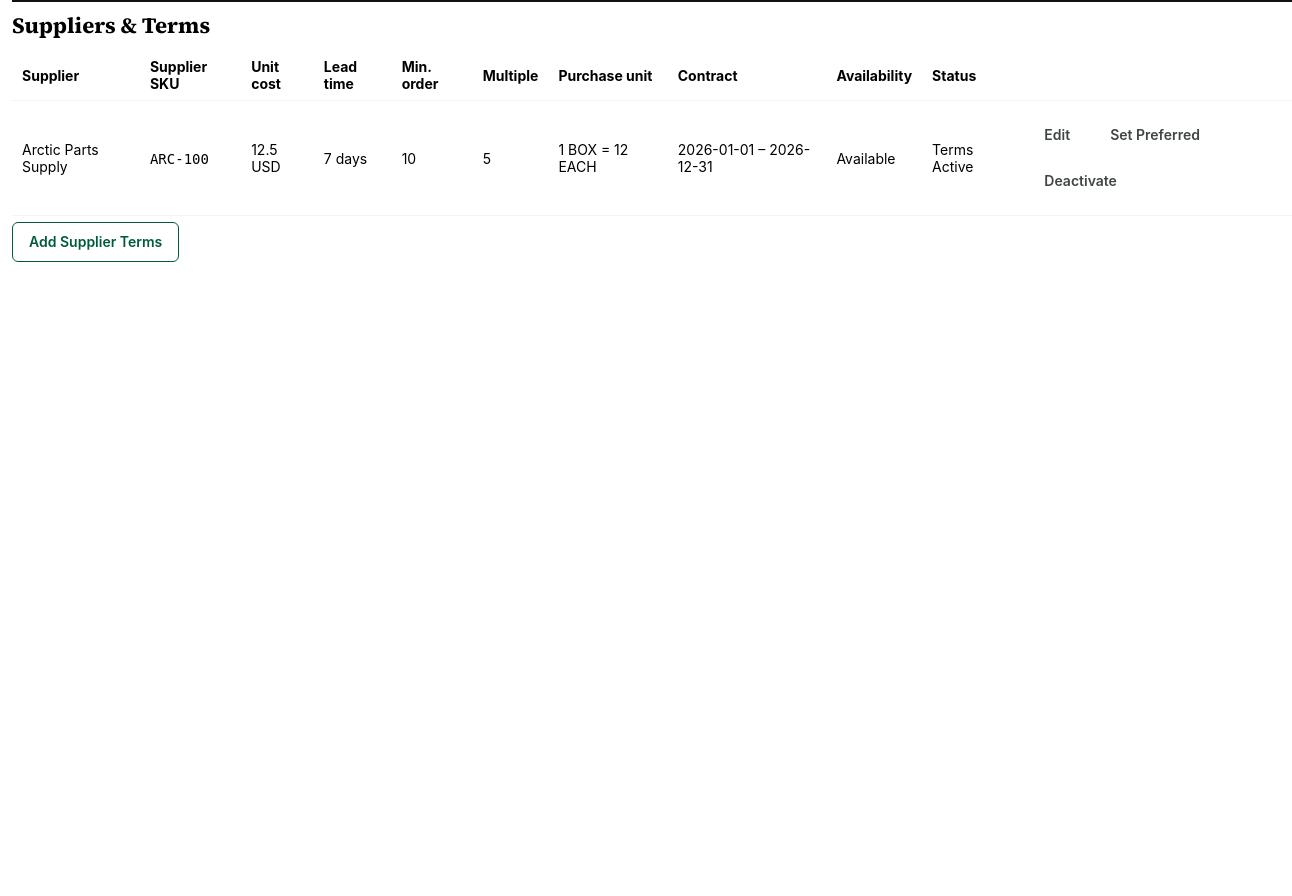
Test case: Edit terms › an edit sends ONLY what changed, at the version loaded, and is reported saved
The width and height of the screenshot is (1292, 896).
Click the button with aria-label "edit terms from arctic parts supply" at (1057, 135), box [1027,115,1087,155]
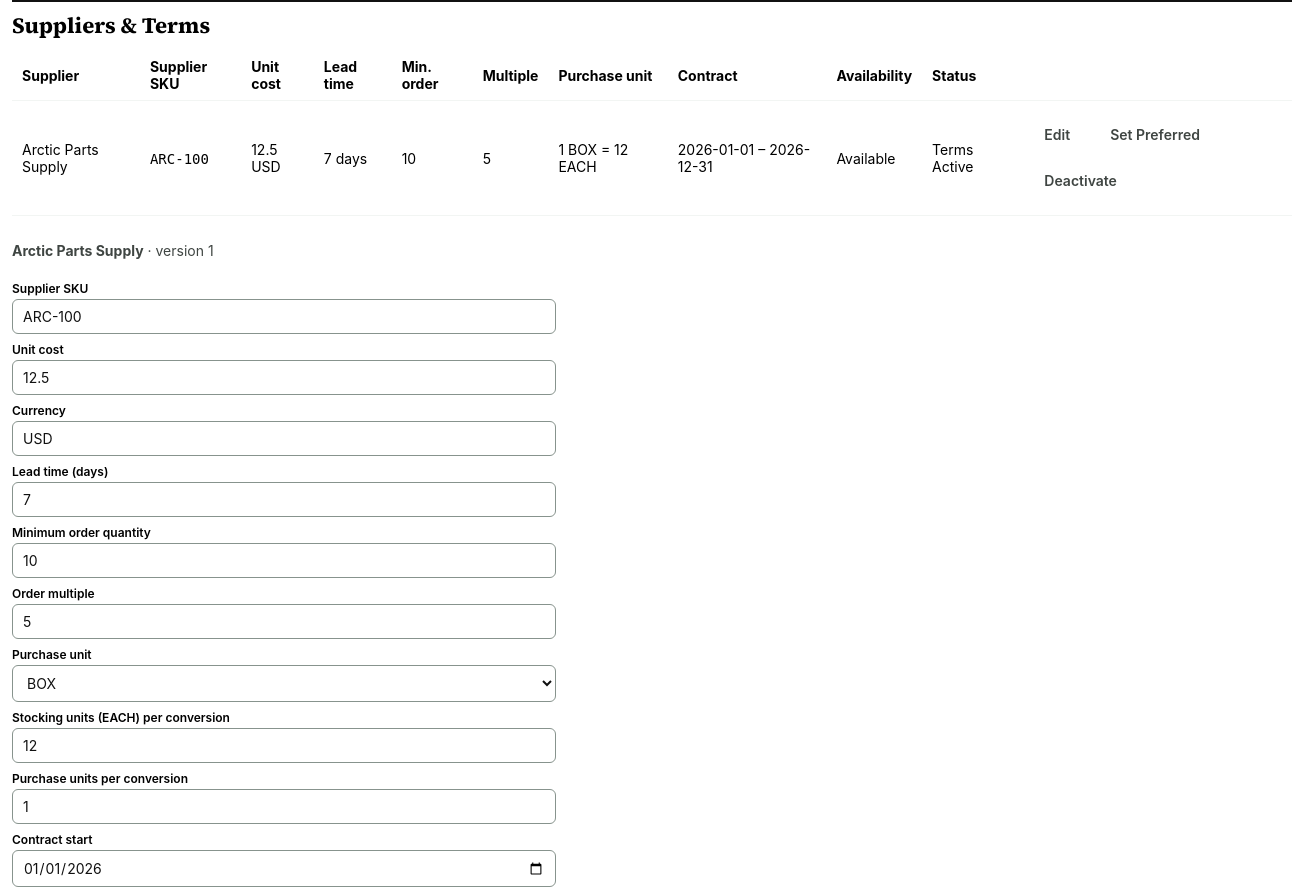
Replace the text in the field labelled "Unit cost" with "11.75" at (284, 378), box [12,360,556,395]
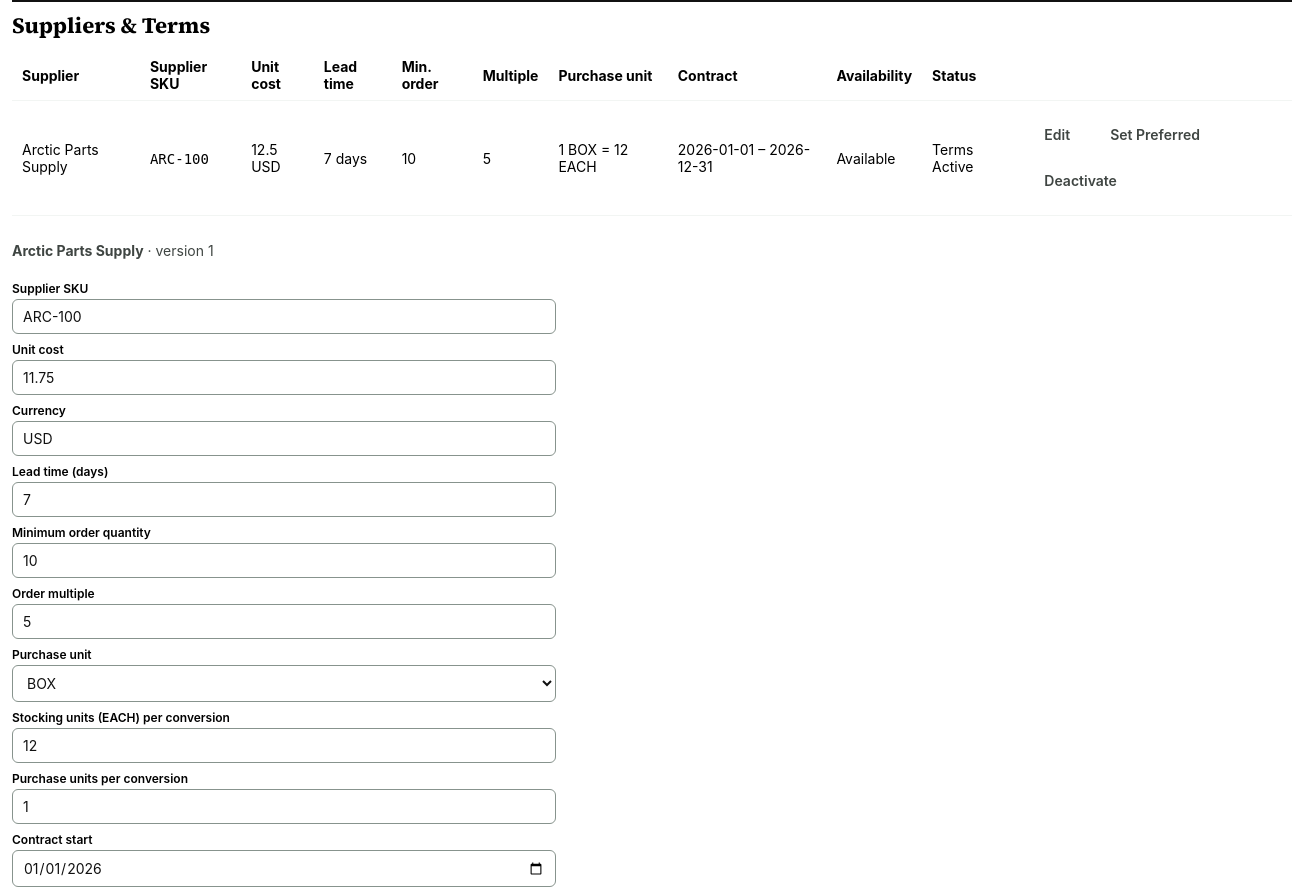
Replace the text in the field labelled "Lead time (days)" with "10" at (284, 500), box [12,482,556,517]
(page scrolled)
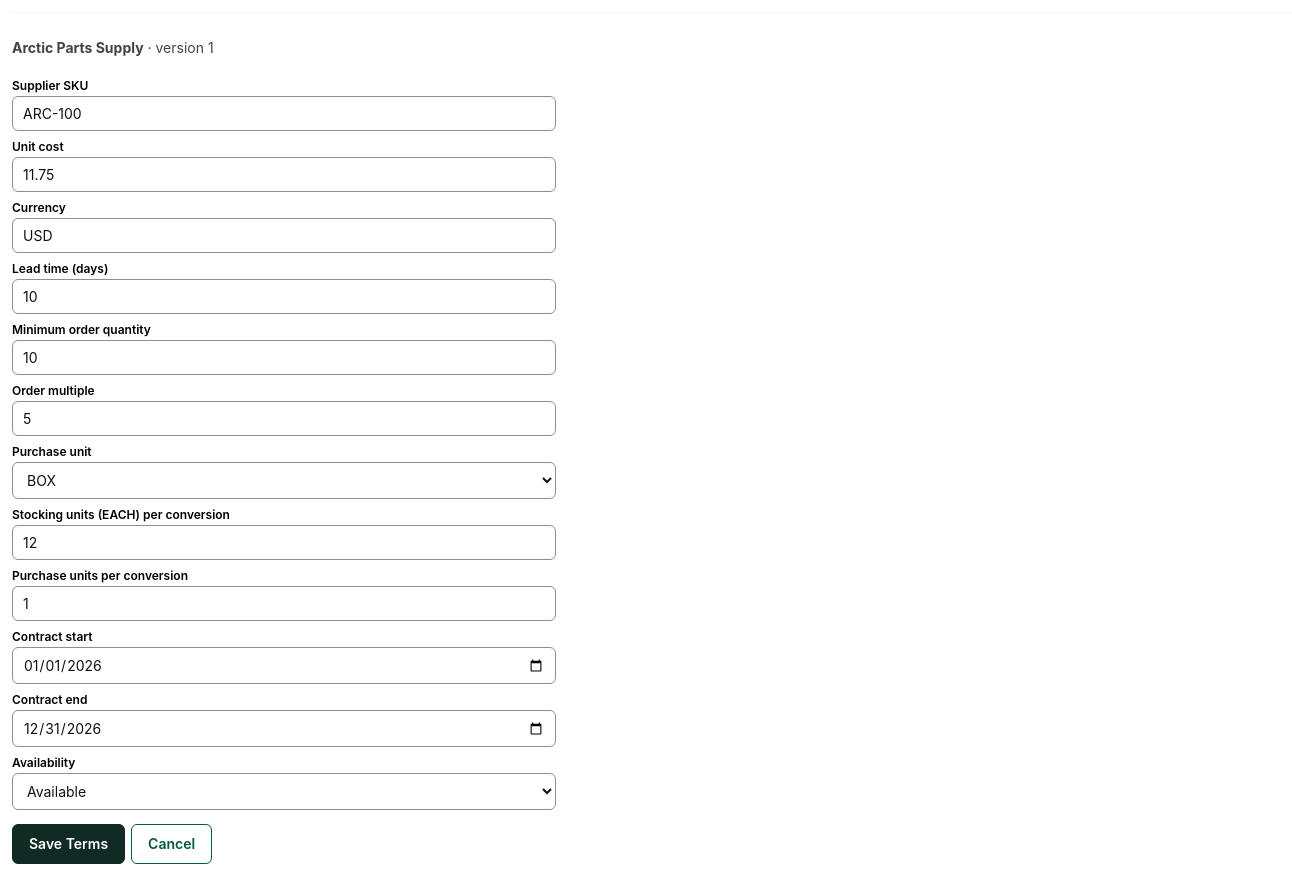
Click the button "Save Terms" at (69, 844), box [12,824,125,864]
(page scrolled)
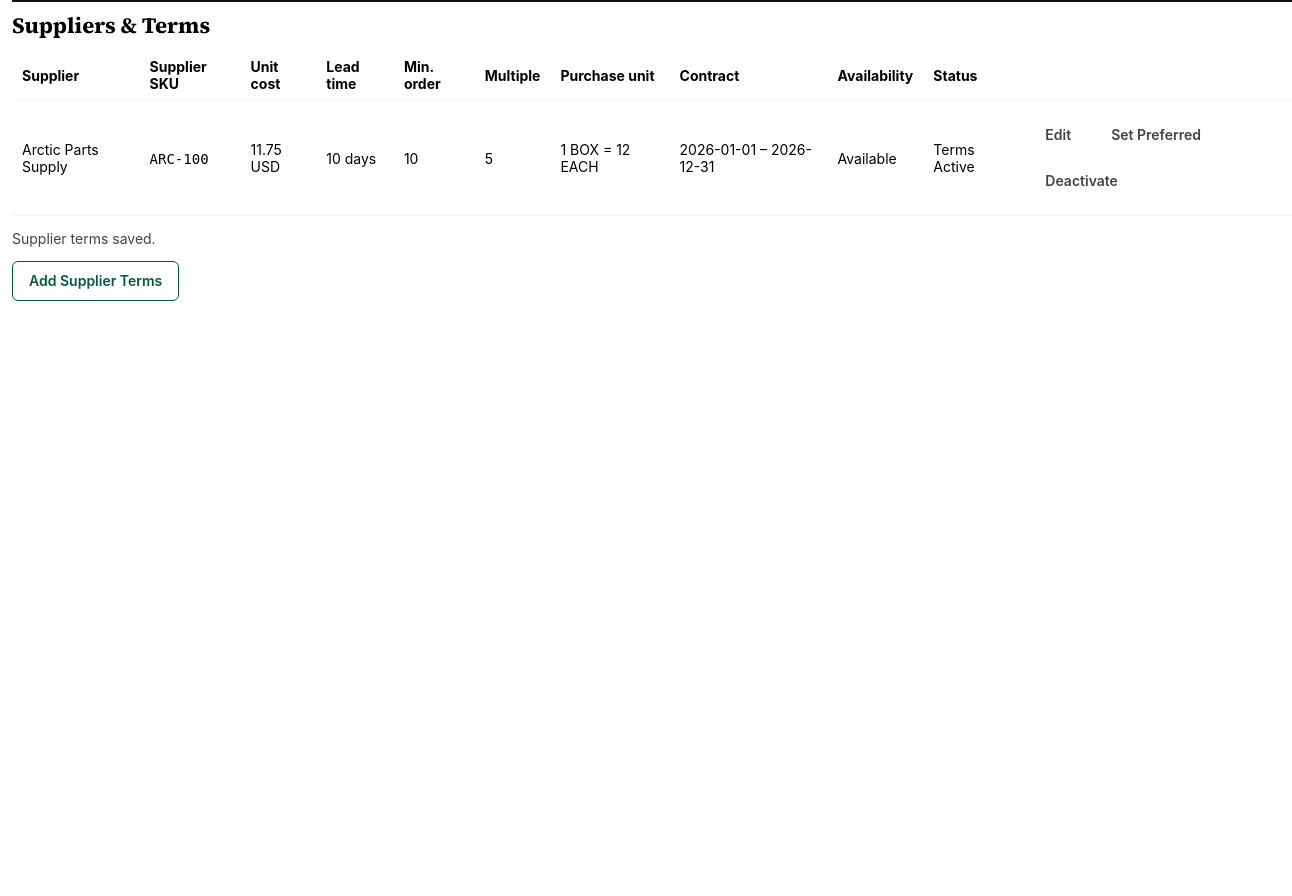
Now the text "Supplier terms saved." is shown, box [12,230,156,247]
